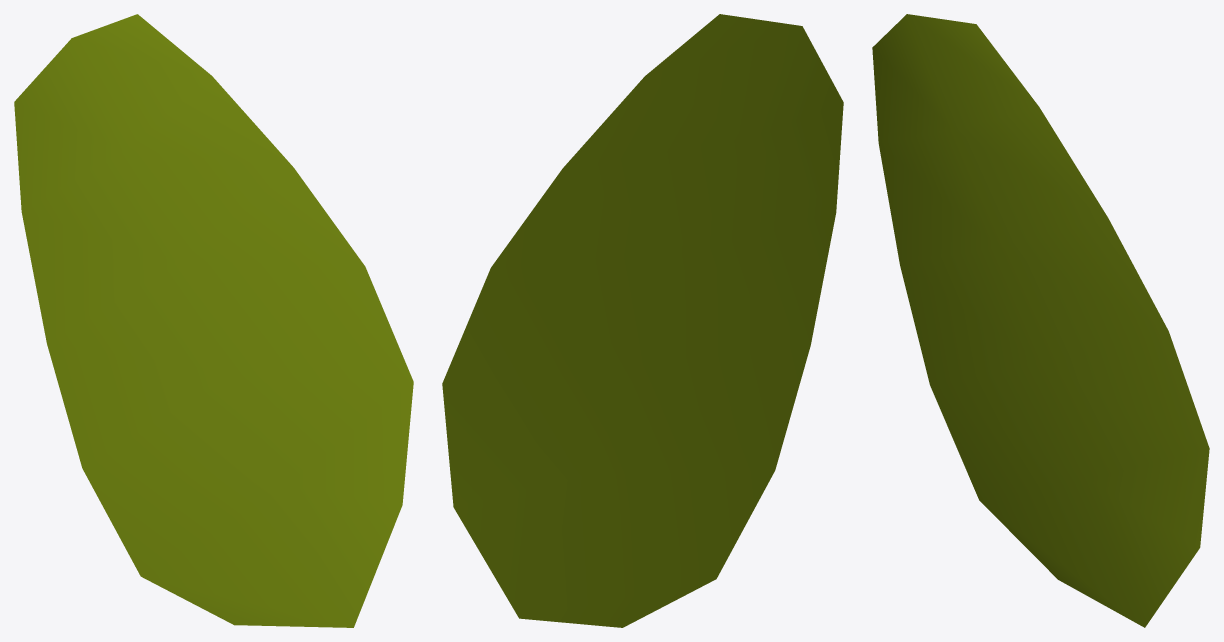
Rendered from lovebird_feather_flight_tertiary_023.obj.
3 renders of one model, left to right at view 1: azimuth 30°, elevation 25°; view 2: azimuth 150°, elevation 25°; view 3: azimuth 330°, elevation 25°, orthographic. The views are drawn at different scales.
Parts seen in each view (by area): view 1: feather_flight_tertiary_023; view 2: feather_flight_tertiary_023; view 3: feather_flight_tertiary_023.
Part boxes in pixels (left/top/right/bottom): feather_flight_tertiary_023: left=14, top=14, right=413, bottom=627; feather_flight_tertiary_023: left=442, top=14, right=843, bottom=627; feather_flight_tertiary_023: left=872, top=14, right=1209, bottom=627.
Bounding box in the file's own units: 0.00446 × 0.00702 × 0.00016.
